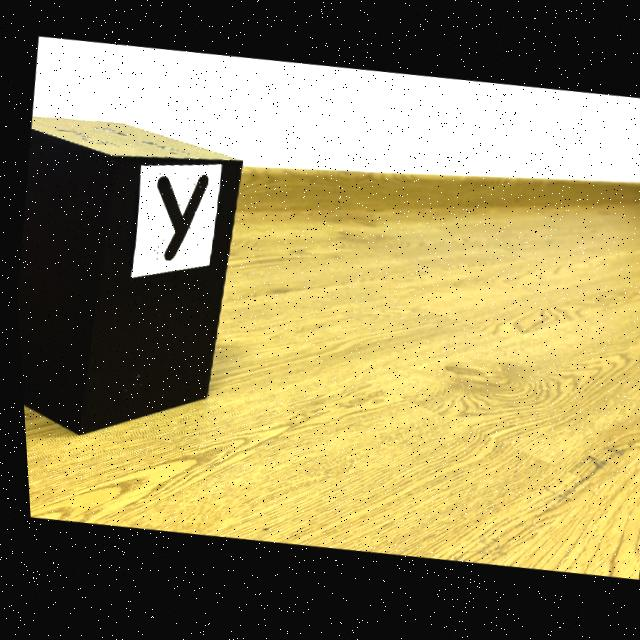Y: (155, 177, 206, 262)
